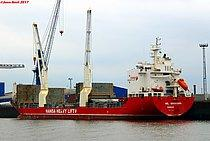Ship: (9, 41, 198, 123)
